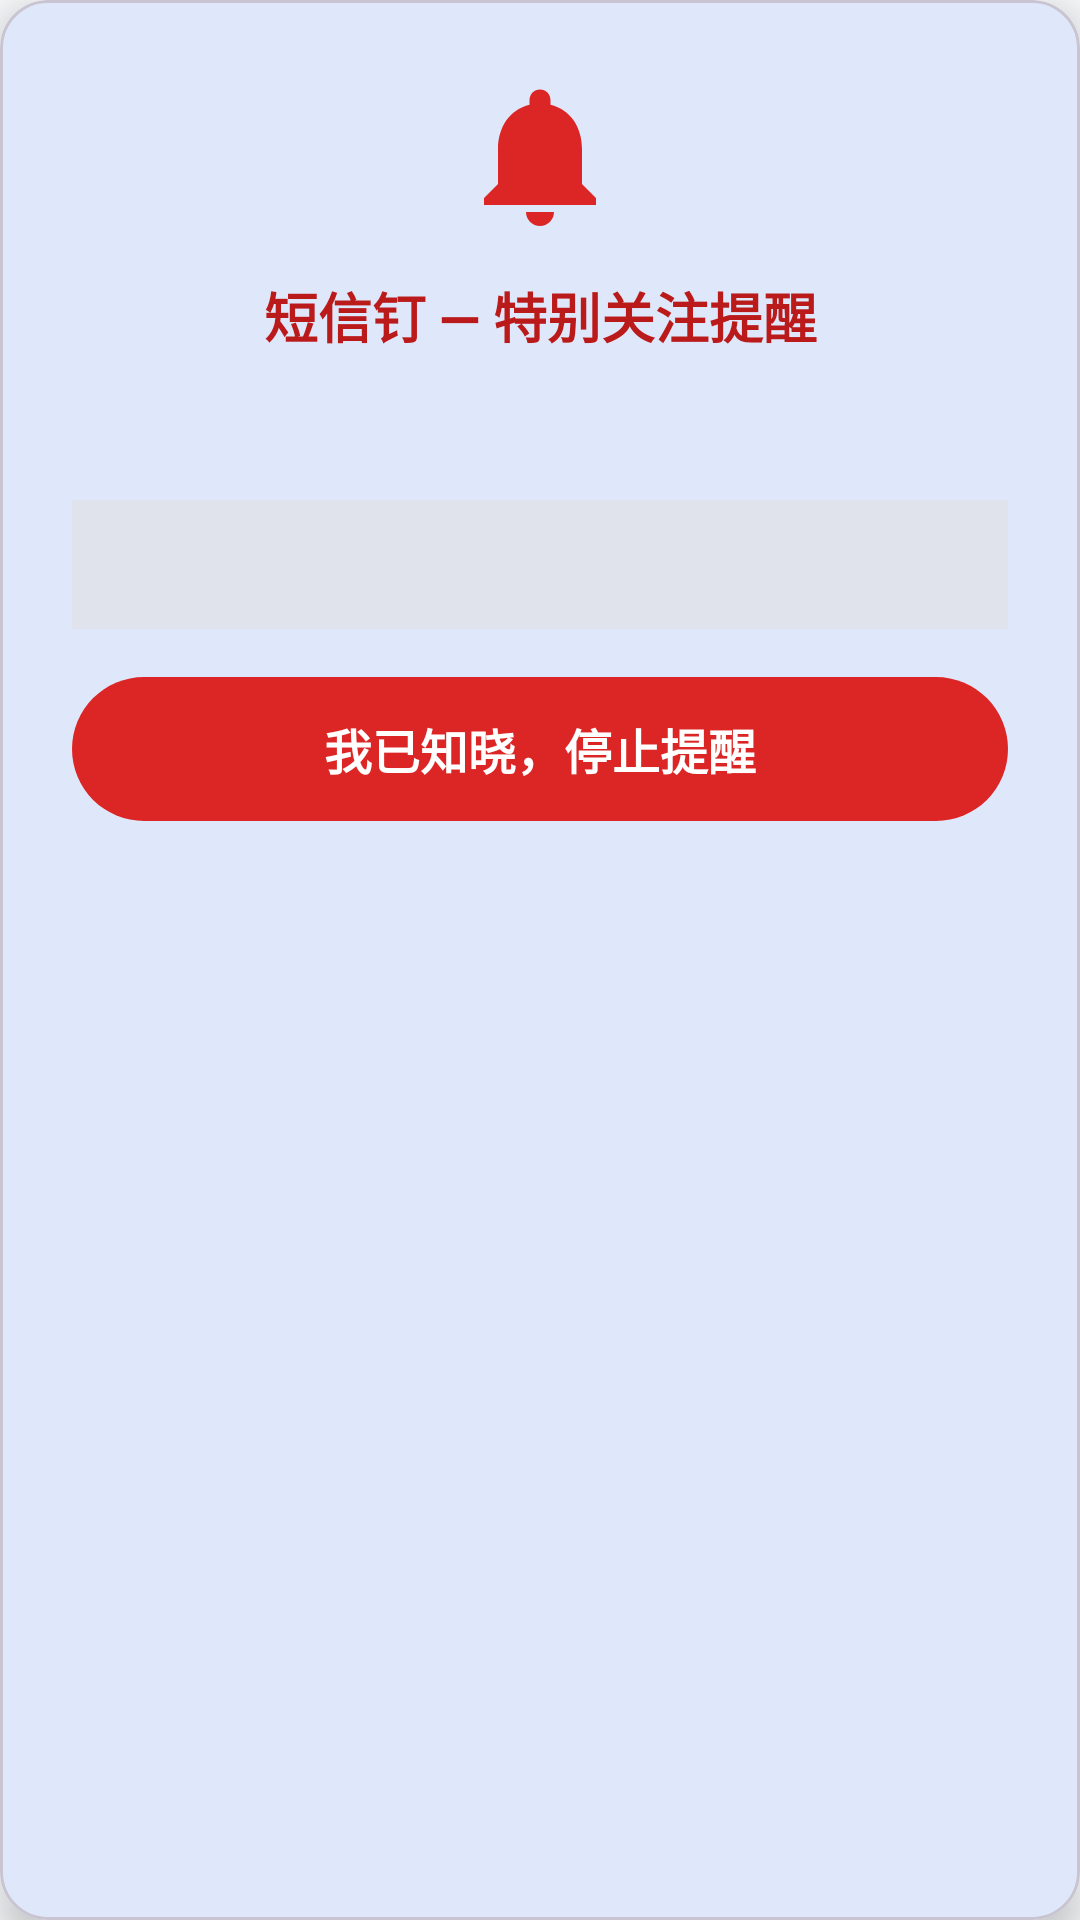

Screen size 1080 x 1920. Icon name, then its center in pixels as point (x, y):
alert bell: point (540, 157)
